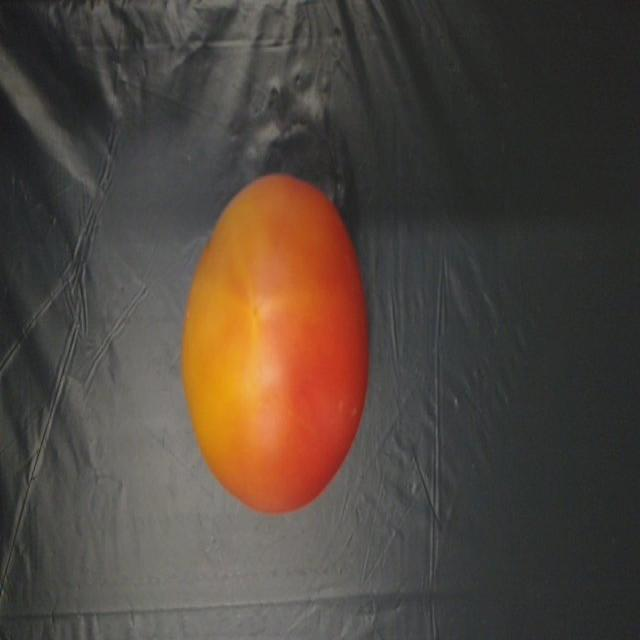sari: (163, 152, 377, 524)
